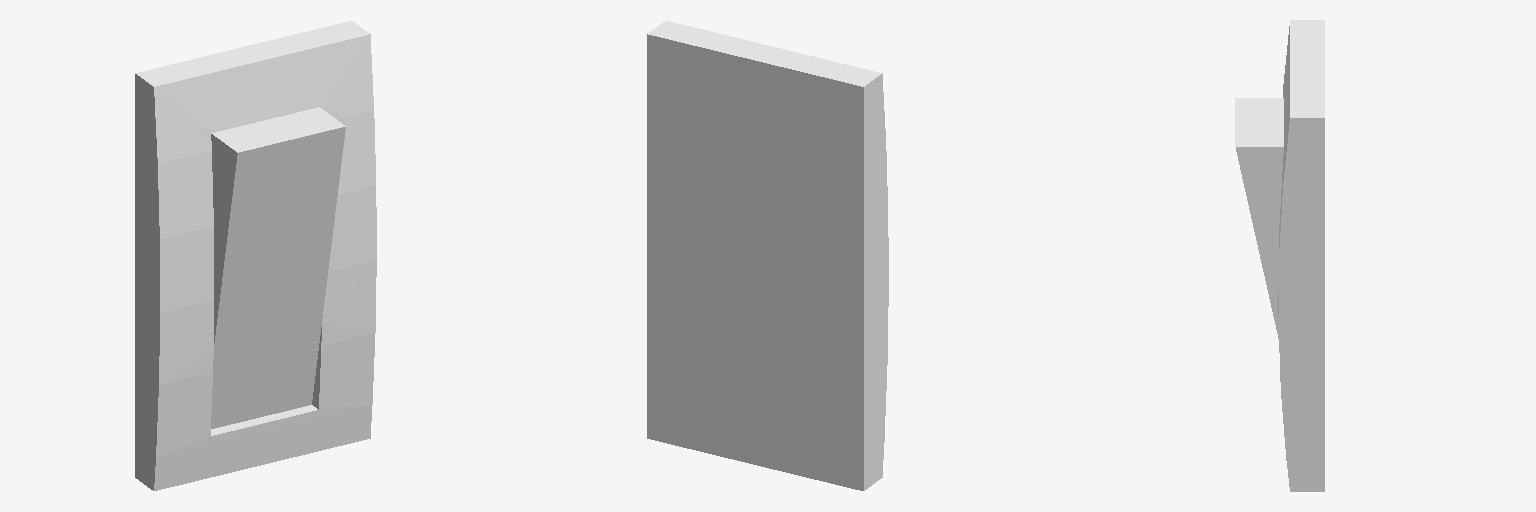
URDF robot description (box.SLDPRT):
<?xml version="1.0" encoding="utf-8"?>
<!-- This URDF was automatically created by SolidWorks to URDF Exporter! Originally created by [author] ([email redacted]) 
     Commit Version: 1.5.1-0-g916b5db  Build Version: 1.5.7152.31018
     For more information, please see http://wiki.ros.org/sw_urdf_exporter -->
<robot
  name="box.SLDPRT">
  <link
    name="box.SLDPRT">
    <inertial>
      <origin
        xyz="1.2996E-17 1.20353843572399E-16 0.16926"
        rpy="0 0 0" />
      <mass
        value="0" />
      <inertia
        ixx="1.73042"
        ixy="-1.2824E-17"
        ixz="-2.8299E-17"
        iyy="1.73042"
        iyz="2.85579897269348E-17"
        izz="1.0053" />
    </inertial>
    <visual>
      <origin
        xyz="0 0 0"
        rpy="1.5707963267949 3.14159 1.5707963267949" />
      <geometry>
        <mesh
          filename="models/meshes/light/light.STL" scale="4 4 4" />
      </geometry>
      <material
        name="">
        <color
          rgba="1 1 1 1" />
      </material>
    </visual>
    <collision>
      <origin
        xyz="0 0 0"
        rpy="1.5707963267949 3.14159 1.5707963267949" />
      <geometry>
        <mesh
          filename="models/meshes/light/light.STL" scale="4 4 4" />
      </geometry>
    </collision>
  </link>
</robot>

--- Facts derived from the render (not from the file) ---
Views: 3 orthographic renders of the robot side by side, from view 1: azimuth 30°, elevation 25°; view 2: azimuth 150°, elevation 25°; view 3: azimuth 270°, elevation 25°.
Robot: box.SLDPRT — 1 links, 0 joints (none); root link box.SLDPRT; default pose: every joint at zero.
Visible links, largest first — view 1: box.SLDPRT; view 2: box.SLDPRT; view 3: box.SLDPRT.
Link boxes in pixels (x1,y1,x2,y2): box.SLDPRT: [135, 21, 376, 490]; box.SLDPRT: [647, 21, 888, 490]; box.SLDPRT: [1235, 20, 1324, 491].
Size in the robot's own frame: 0.16 by 0.062 by 0.2856 metres.
Meshes: 1 distinct files referenced, 1 mesh visuals loaded (1 binary STL).